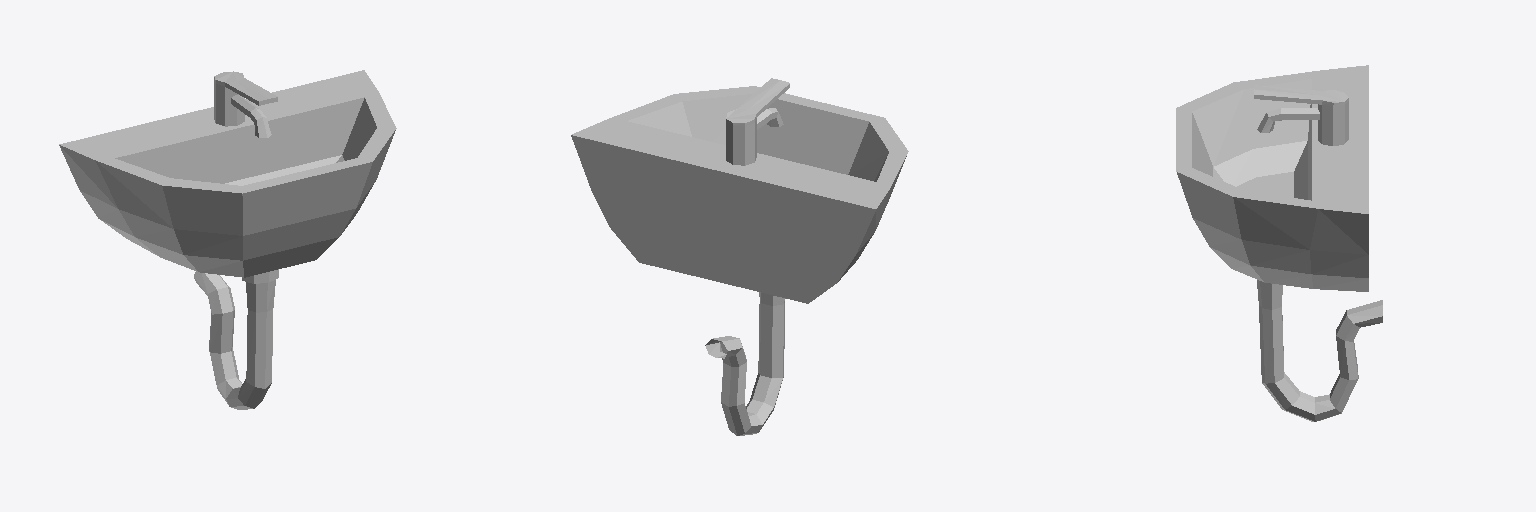
The model's file is BathroomSink.obj.
3 renders of one model, left to right at view 1: azimuth 30°, elevation 25°; view 2: azimuth 150°, elevation 25°; view 3: azimuth 270°, elevation 25°, orthographic.
Visible parts, largest first — view 1: Cube.016; view 2: Cube.016; view 3: Cube.016.
Boxes of the visible parts, x1=… form: Cube.016: x1=59, y1=70, x2=396, y2=409; Cube.016: x1=571, y1=78, x2=908, y2=435; Cube.016: x1=1176, y1=65, x2=1382, y2=421.
Size of the model in its own units: 139 by 145 by 81.53.